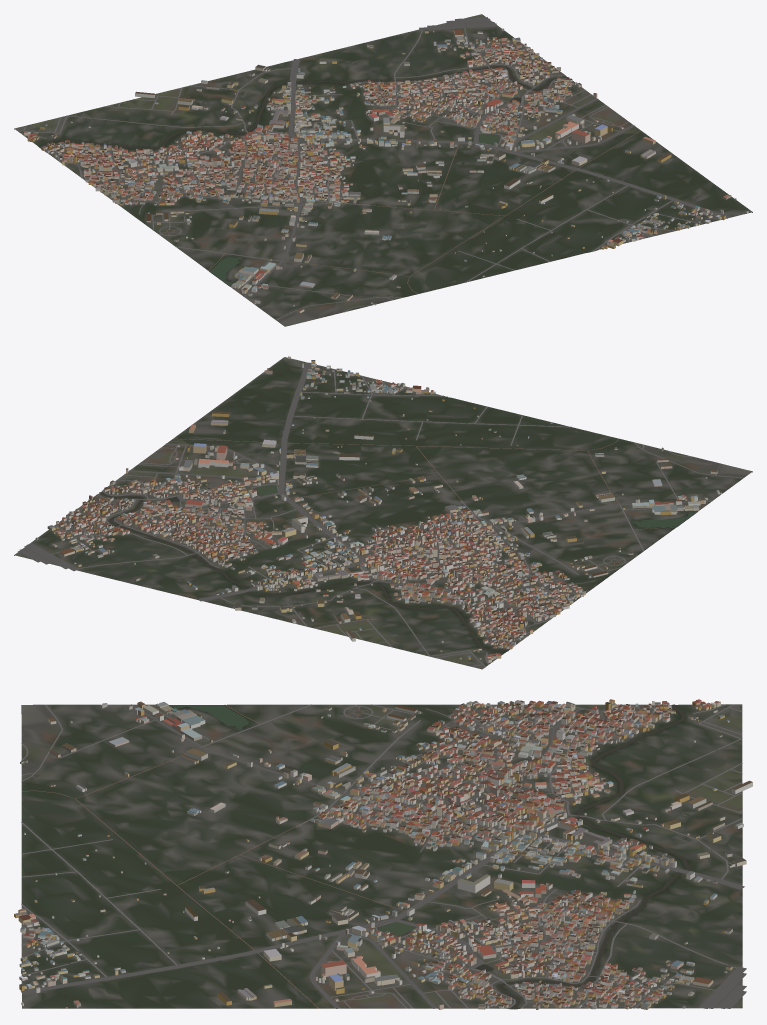
3 views of the same model, one above another, from view 1: azimuth 30°, elevation 25°; view 2: azimuth 150°, elevation 25°; view 3: azimuth 270°, elevation 25° (orthographic). The views are drawn at different scales.
Parts seen in each view (by area): view 1: ground, buildings, roads, water; view 2: ground, buildings, roads, water; view 3: ground, buildings, roads, water.
Part boxes in pixels (x1,y1,x2,y2): ground: (14, 14, 752, 326); buildings: (24, 28, 748, 313); roads: (17, 17, 729, 320); water: (39, 66, 597, 285); ground: (14, 357, 752, 669); buildings: (35, 356, 721, 662); roads: (18, 362, 743, 667); water: (99, 396, 696, 651); ground: (21, 704, 742, 1009); buildings: (14, 699, 752, 1009); roads: (21, 704, 746, 1008); water: (21, 704, 690, 1009).
Bounding box in the file's own units: 1414 × 27.27 × 1437.
